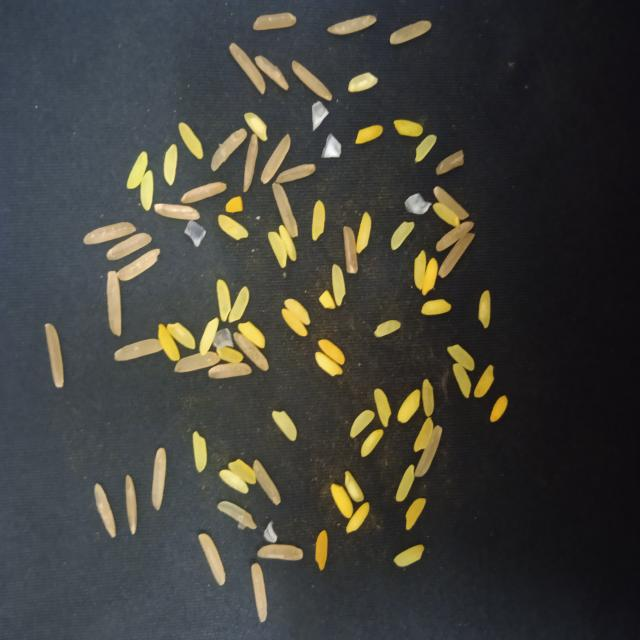Broken: (229, 42, 266, 94), (438, 233, 475, 278), (292, 60, 332, 101), (211, 128, 247, 172), (260, 134, 291, 185), (414, 425, 442, 477), (233, 332, 269, 372), (198, 533, 225, 586), (272, 183, 298, 238), (117, 248, 160, 281), (253, 458, 281, 506), (82, 221, 136, 245), (254, 55, 289, 91), (107, 233, 152, 261), (45, 322, 64, 388), (94, 483, 116, 539), (434, 186, 469, 220), (436, 221, 474, 252), (217, 501, 257, 529), (113, 339, 163, 361), (106, 270, 122, 337), (181, 181, 227, 204), (151, 446, 167, 512), (174, 350, 221, 372), (390, 20, 431, 45), (328, 15, 377, 35), (251, 562, 267, 622), (178, 122, 203, 160), (158, 324, 181, 362), (243, 134, 258, 192), (126, 151, 148, 189), (275, 163, 316, 183), (272, 410, 298, 441), (153, 203, 200, 220), (228, 286, 249, 324), (199, 318, 220, 356), (252, 12, 296, 30), (167, 322, 196, 349), (218, 214, 248, 240), (331, 483, 353, 518), (346, 502, 370, 534), (397, 390, 420, 423), (238, 321, 265, 349), (228, 458, 256, 485), (282, 308, 308, 337), (258, 544, 302, 561), (208, 362, 252, 379), (126, 474, 138, 536), (343, 225, 358, 274), (284, 298, 311, 325), (436, 150, 464, 176), (315, 351, 343, 377), (350, 409, 375, 438), (219, 469, 248, 494), (391, 221, 415, 251), (244, 112, 268, 142), (414, 417, 434, 453), (433, 202, 460, 228), (448, 344, 474, 371), (318, 340, 345, 366), (394, 544, 424, 567), (216, 279, 232, 322), (396, 464, 414, 502), (268, 232, 287, 268), (474, 364, 494, 398), (452, 364, 472, 398), (405, 498, 426, 530), (344, 470, 365, 502), (374, 388, 391, 427), (356, 211, 371, 254), (331, 264, 346, 306), (422, 257, 438, 296), (415, 134, 437, 162), (361, 429, 383, 457), (279, 225, 296, 261), (348, 72, 378, 92), (312, 200, 326, 242), (163, 144, 177, 186), (193, 431, 207, 473), (140, 170, 154, 211), (315, 530, 328, 571), (355, 125, 383, 144), (421, 299, 452, 316), (394, 119, 423, 137), (478, 290, 491, 329), (490, 395, 508, 422), (374, 320, 401, 338), (414, 250, 426, 290), (216, 346, 243, 363), (422, 378, 434, 416), (318, 290, 336, 309), (226, 196, 243, 213)
